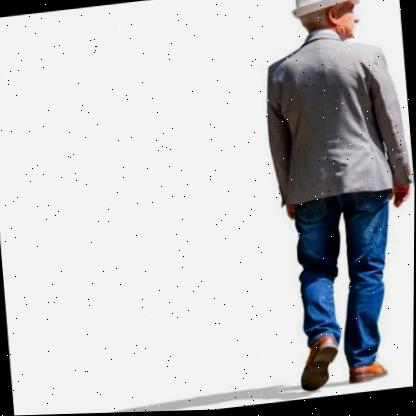person: (243, 0, 416, 400)
